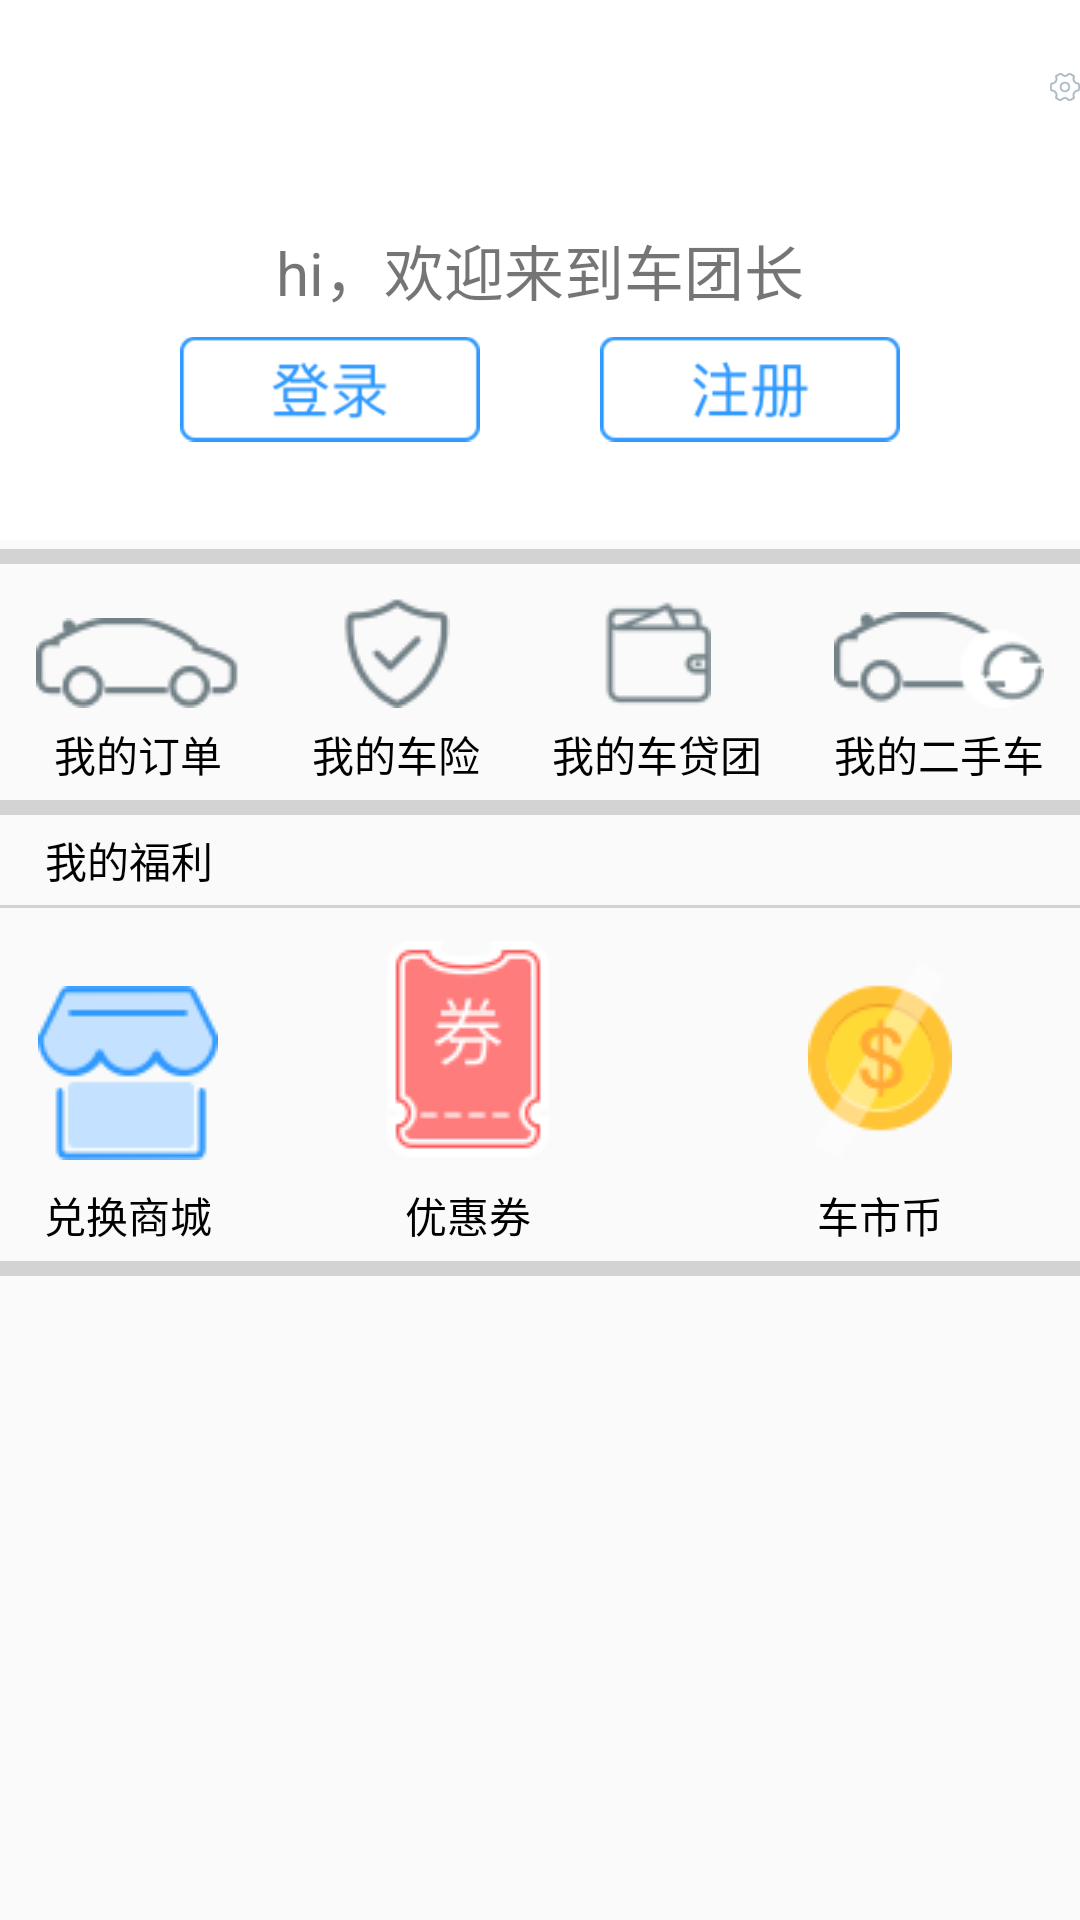

Icon click points for this 1080px x 1920px phone screenshot, format (x,y):
mine set: (1065,87)
